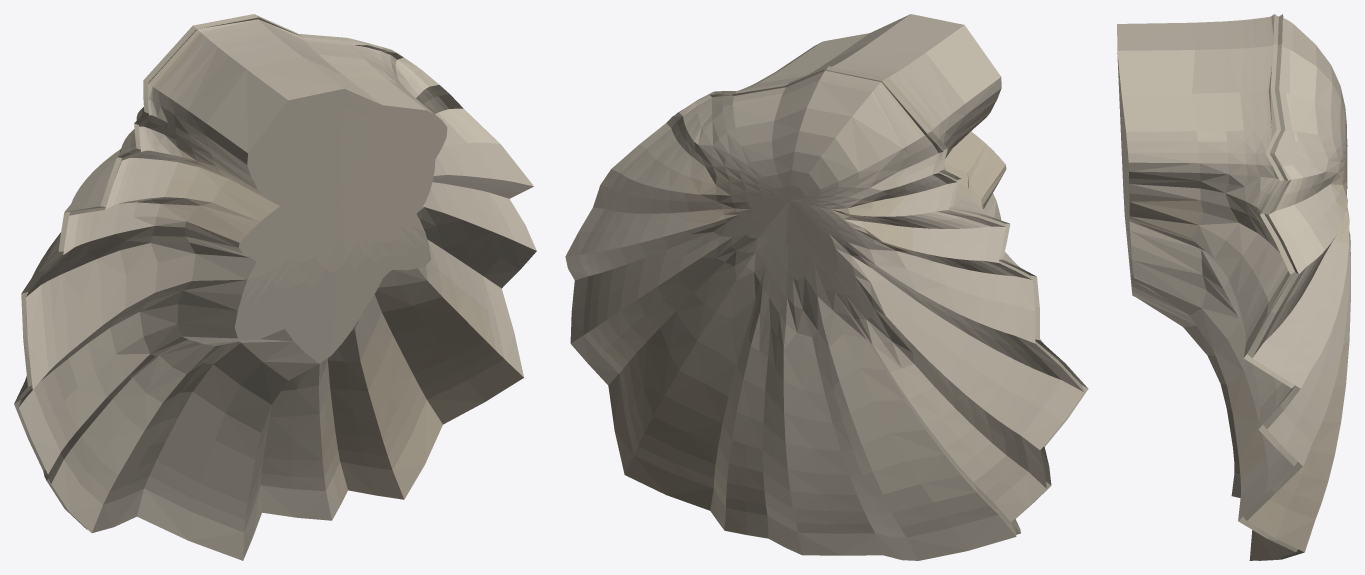
The model's file is lopha.glb.
3 renders of one model, left to right at view 1: azimuth 30°, elevation 25°; view 2: azimuth 150°, elevation 25°; view 3: azimuth 270°, elevation 25°, orthographic. The views are drawn at different scales.
Visible parts, largest first — view 1: Lopha complete paired oyster shell; view 2: Lopha complete paired oyster shell; view 3: Lopha complete paired oyster shell.
Boxes of the visible parts, x1,y1,x2,y2 form: Lopha complete paired oyster shell: [14, 14, 536, 560]; Lopha complete paired oyster shell: [565, 14, 1088, 560]; Lopha complete paired oyster shell: [1117, 14, 1350, 560].
Size of the model in its own units: 0.0582 by 0.0557 by 0.025.
